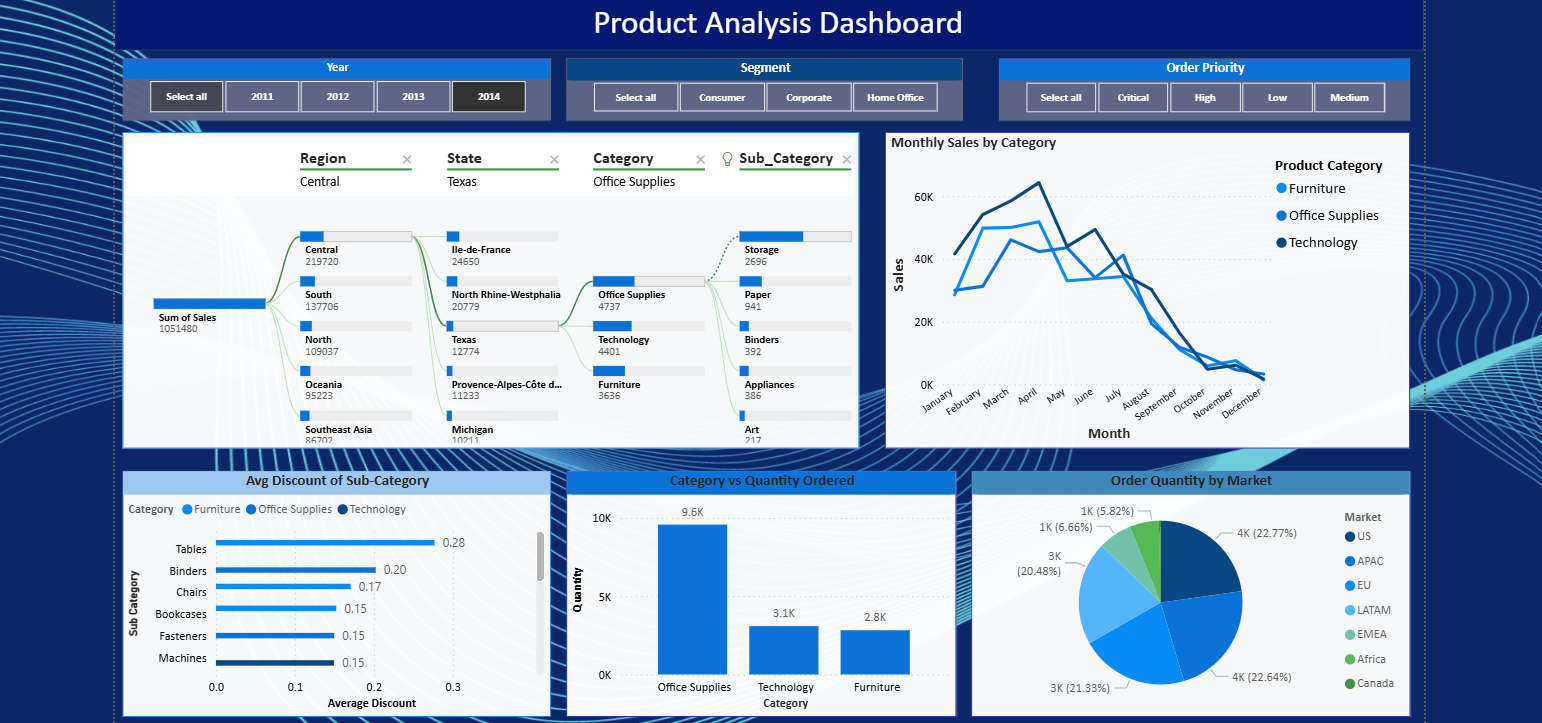

The dashboard page shown, as its layout file describes it:
{"tool":"powerbi","page":{"name":"Product_Ananlysis","canvas":[1280,720],"ordinal":1},"visuals":[{"type":"shape","box":[0,0,1280.2,57],"z":0},{"type":"textbox","title":"Product Analysis Dashboard","box":[372.1,9.3,493,38.4],"z":1000},{"type":"slicer","title":"Year","fields":{"Values":["SuperStoreOrders2.order_date.Variation.Date Hierarchy.Year"]},"box":[34.9,65.1,364,60.5],"z":2000},{"type":"slicer","title":"Segment","fields":{"Values":["SuperStoreOrders2.segment"]},"box":[441.9,65.1,388.4,60.5],"z":3000},{"type":"decompositionTreeVisual","fields":{"ExplainBy":["SuperStoreOrders2.region","SuperStoreOrders2.State","SuperStoreOrders2.category","SuperStoreOrders2.Sub_Category"],"Analyze":["Sum(SuperStoreOrders2.Sales)"]},"box":[7.9,137.5,721.1,309.9],"z":4000},{"type":"clusteredBarChart","title":"Avg Discount of Sub-Category","fields":{"Y":["Sum(SuperStoreOrders2.discount)"],"Category":["SuperStoreOrders2.Sub_Category"],"Series":["SuperStoreOrders2.category"]},"box":[7.9,468.7,419.2,241.1],"z":5000},{"type":"columnChart","title":"Category vs Quantity Ordered","fields":{"Y":["Sum(SuperStoreOrders2.quantity)"],"Category":["SuperStoreOrders2.category"]},"box":[441.7,468.7,382,241.1],"z":6000},{"type":"lineChart","title":"Monthly Sales by Category","fields":{"Y":["Sum(SuperStoreOrders2.sales)"],"Category":["SuperStoreOrders2.order_date.Variation.Date Hierarchy.Month"],"Series":["SuperStoreOrders2.category"]},"box":[752.7,137.5,513.8,309.9],"z":7000},{"type":"pieChart","title":"Order Quantity by Market","fields":{"Category":["SuperStoreOrders2.Market"],"Y":["Sum(SuperStoreOrders2.quantity)"]},"box":[837.2,468.7,429.3,241.1],"z":8000},{"type":"slicer","title":"Order Priority","fields":{"Values":["SuperStoreOrders2.order_priority"]},"box":[865.1,65.1,364,60.5],"z":9000}]}

Visuals, with their boxes in screenshot pixels (x1, y1, x2, y2):
shape: (108, 0, 1422, 46)
"Product Analysis Dashboard" textbox: (490, 0, 996, 37)
"Year" slicer: (144, 55, 518, 117)
"Segment" slicer: (562, 55, 961, 117)
decompositionTreeVisual - SuperStoreOrders2.region x SuperStoreOrders2.State: (117, 129, 857, 447)
"Avg Discount of Sub-Category" clusteredBarChart: (117, 469, 547, 717)
"Category vs Quantity Ordered" columnChart: (562, 469, 954, 717)
"Monthly Sales by Category" lineChart: (881, 129, 1408, 447)
"Order Quantity by Market" pieChart: (968, 469, 1408, 717)
"Order Priority" slicer: (996, 55, 1370, 117)
